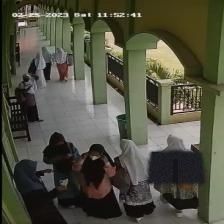Cadar_Niqab: (146, 134, 205, 183)
